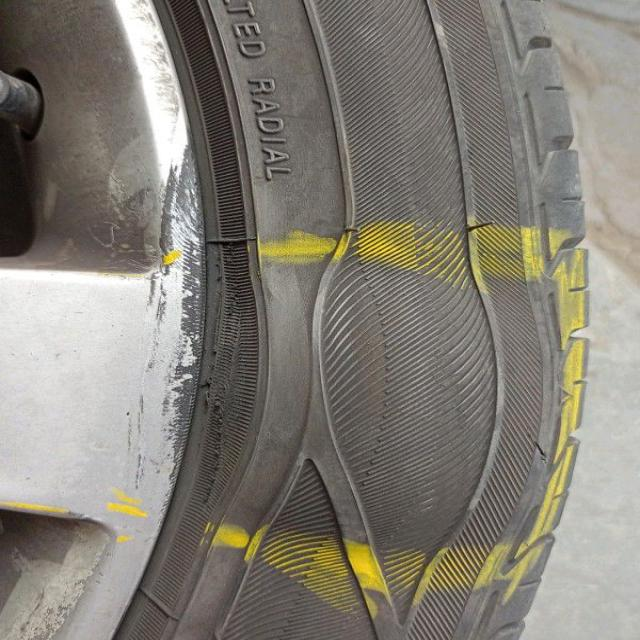Bulge: (250, 242, 558, 556)
